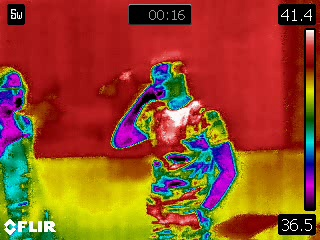human: (109, 51, 239, 240), (1, 61, 41, 209)
